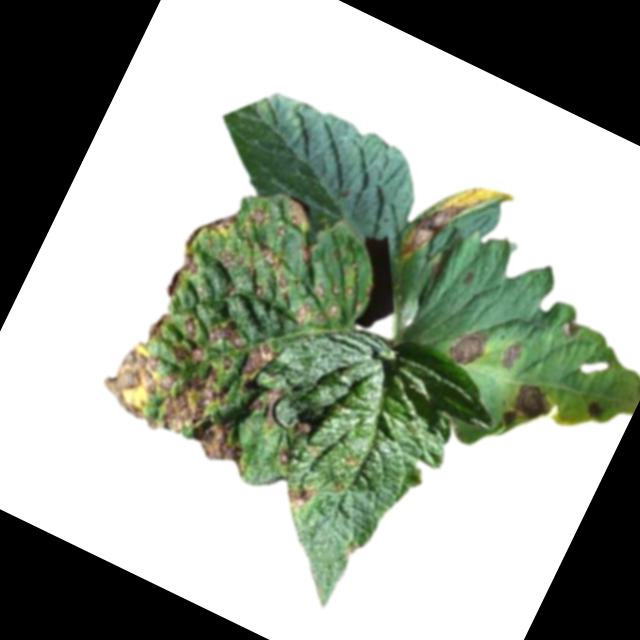Early_blight: (92, 157, 398, 492), (394, 156, 518, 292), (500, 377, 560, 438), (444, 322, 494, 375), (495, 337, 531, 378), (286, 481, 317, 513), (558, 312, 588, 341), (291, 413, 319, 440), (585, 396, 608, 420)
